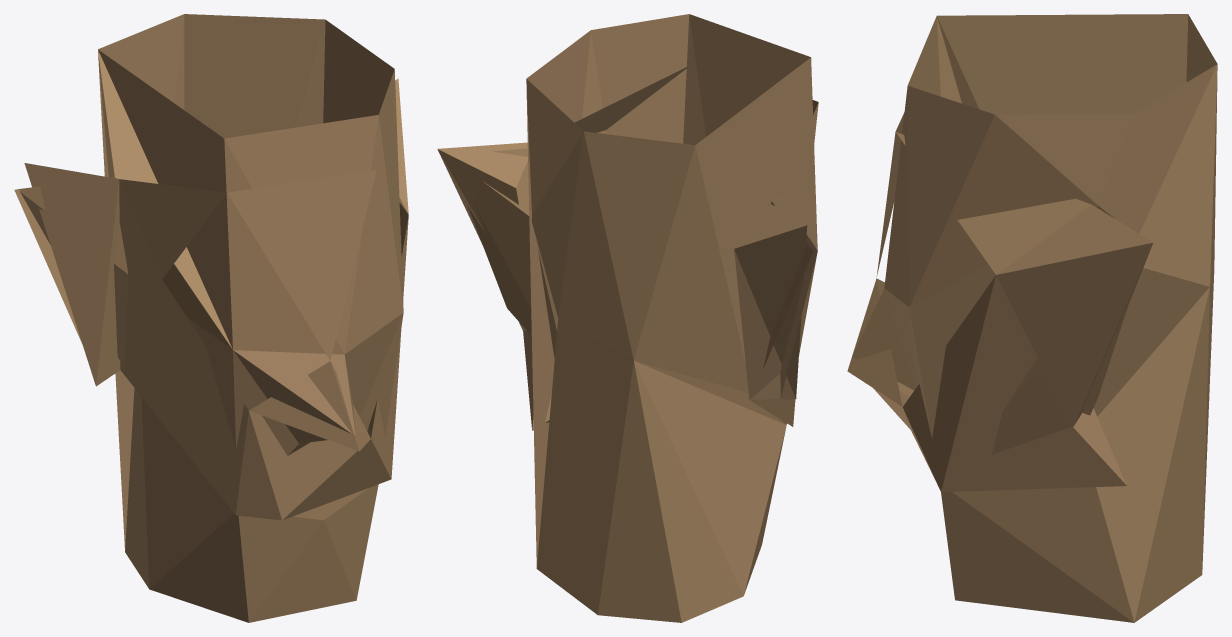
File: mask-face.glb
The picture shows the model from 3 angles, left to right: view 1: azimuth 30°, elevation 25°; view 2: azimuth 150°, elevation 25°; view 3: azimuth 270°, elevation 25°; orthographic projection. The views are drawn at different scales.
Parts seen in each view (by area): view 1: z05.stl; view 2: z05.stl; view 3: z05.stl.
Part boxes in pixels (<box>): z05.stl: <box>14,14,408,622</box>; z05.stl: <box>437,14,818,622</box>; z05.stl: <box>847,14,1217,622</box>.
Size of the model in its own units: 5639 by 6980 by 4552.
